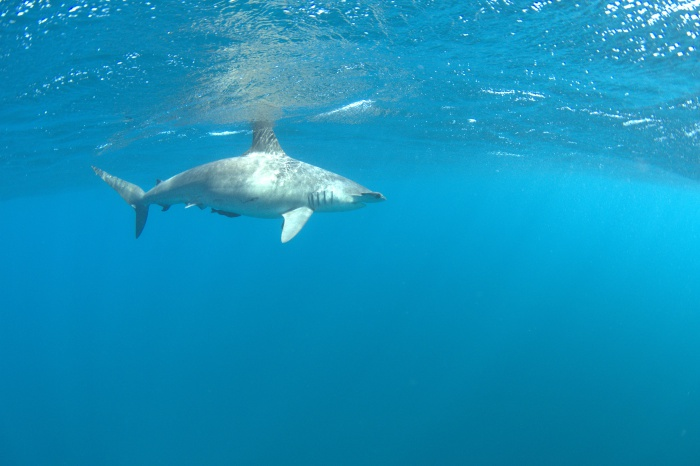Hammer: (91, 117, 391, 256)
